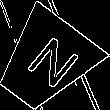N_SW: (13, 30, 77, 95)
